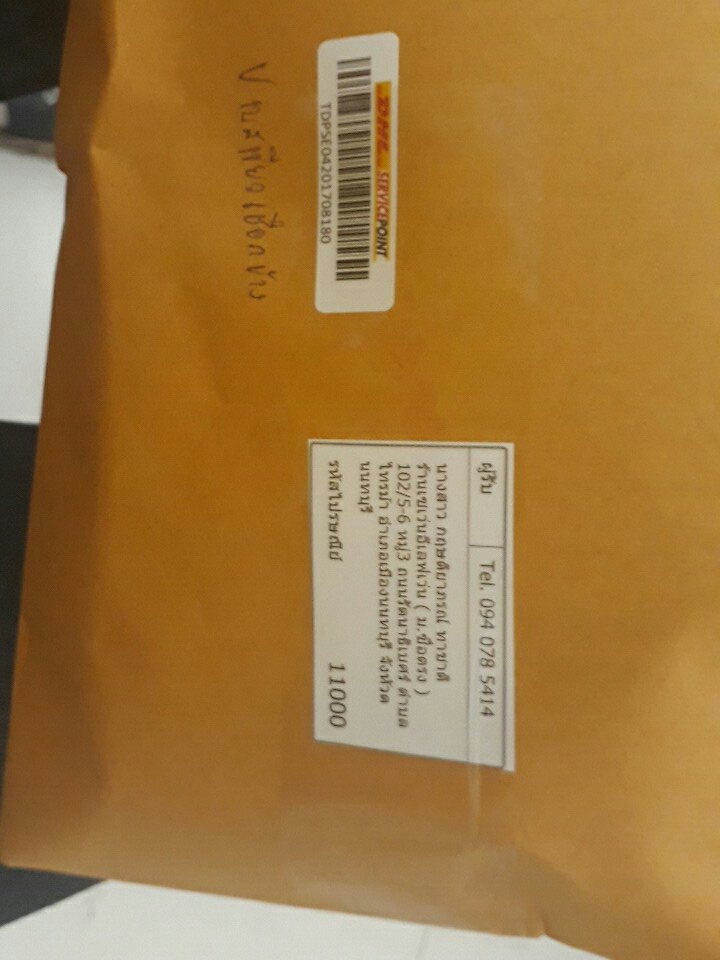ba: (304, 18, 410, 322)
txt: (318, 455, 510, 756)
